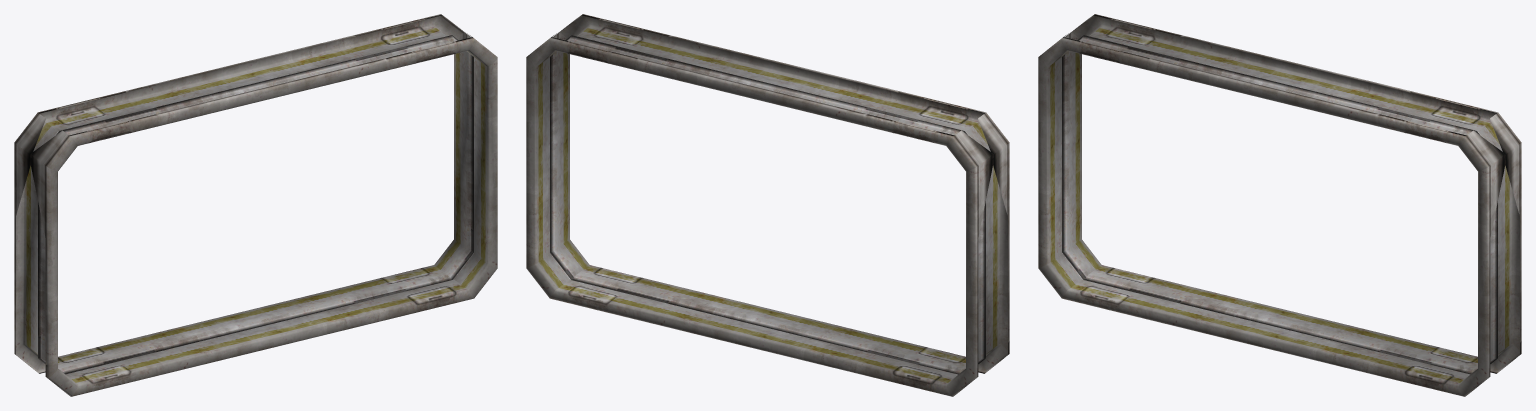
The model's file is theta_ground_window_frame_large_nowindow.dae.
3 views of the same model, side by side, from view 1: azimuth 30°, elevation 25°; view 2: azimuth 150°, elevation 25°; view 3: azimuth 330°, elevation 25° (orthographic).
Parts seen in each view (by area): view 1: theta_ground_window_frame; view 2: theta_ground_window_frame; view 3: theta_ground_window_frame.
Boxes of the visible parts, x1=… form: theta_ground_window_frame: x1=14, y1=14, x2=497, y2=396; theta_ground_window_frame: x1=526, y1=14, x2=1009, y2=396; theta_ground_window_frame: x1=1038, y1=14, x2=1521, y2=396.
Size of the model in its own units: 4.27 by 2.36 by 0.576.
Materials: 1 (1 with a texture image).
